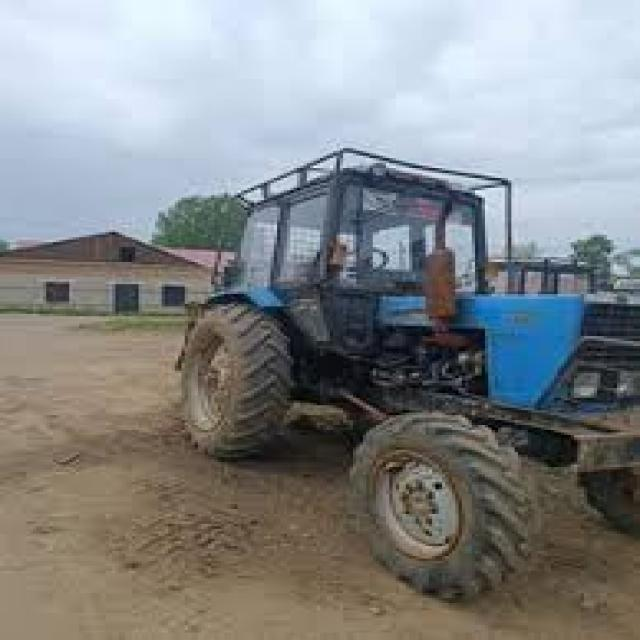Tratores - v5 YOLO V8L 2024-11-13: (173, 145, 640, 601)
